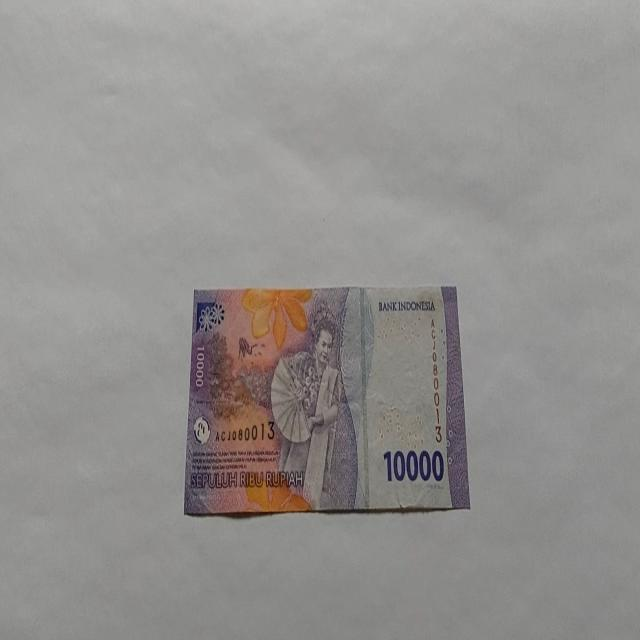sepuluh ribu rupiah: (182, 284, 470, 516)
